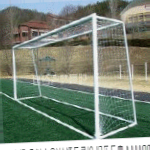goals: (11, 12, 139, 139)
